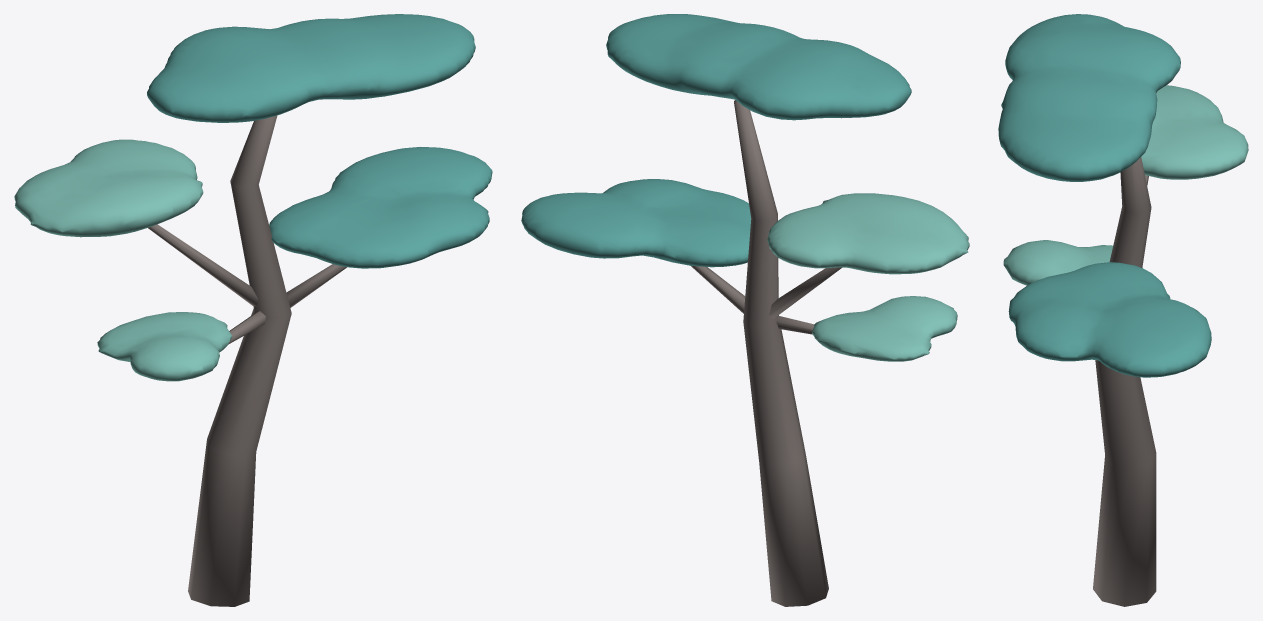
Rendered from pine_a.glb.
3 renders of one model, left to right at view 1: azimuth 30°, elevation 25°; view 2: azimuth 150°, elevation 25°; view 3: azimuth 270°, elevation 25°, orthographic. The views are drawn at different scales.
Visible parts, largest first — view 1: Pad0, Trunk, Pad2, Pad1, Pad3, Branch1, Branch2; view 2: Pad0, Trunk, Pad2, Pad1, Pad3, Branch1, Branch2; view 3: Pad0, Pad2, Trunk, Pad1, Pad3.
Boxes of the visible parts, x1,y1,x2,y2 form: Pad0: (147, 14, 475, 122); Trunk: (188, 115, 291, 606); Pad2: (269, 147, 492, 268); Pad1: (14, 139, 203, 237); Pad3: (97, 312, 232, 381); Branch1: (148, 224, 257, 306); Branch2: (286, 264, 346, 307); Pad0: (606, 14, 911, 120); Trunk: (734, 100, 828, 606); Pad2: (521, 179, 751, 267); Pad1: (767, 193, 969, 274); Pad3: (812, 296, 957, 361); Branch1: (769, 267, 842, 318); Branch2: (690, 265, 745, 313); Pad0: (998, 14, 1180, 181); Pad2: (1008, 262, 1211, 377); Trunk: (1093, 157, 1156, 606); Pad1: (1141, 85, 1248, 179); Pad3: (1003, 240, 1142, 285).
Size of the model in its own units: 4.34 by 5.03 by 2.05.
